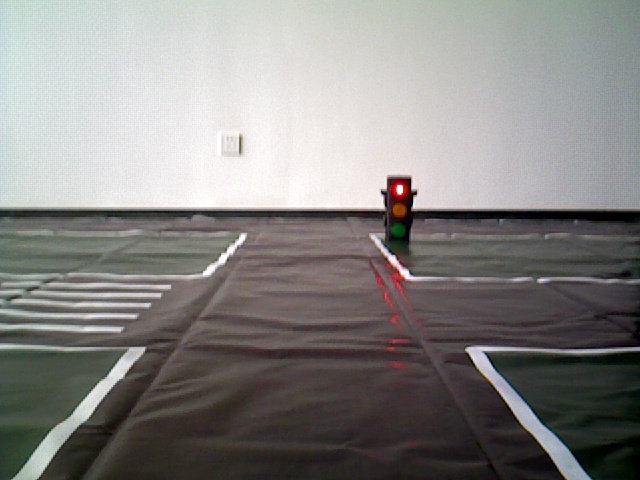red: (386, 178, 410, 240)
